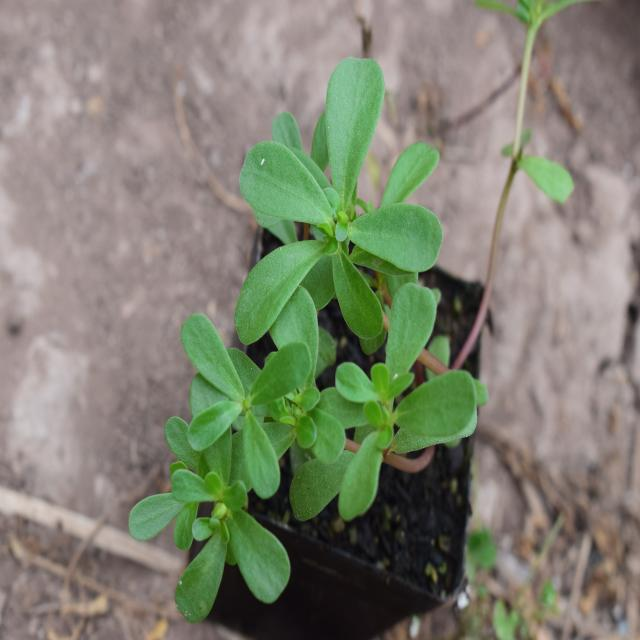purslane: (126, 44, 484, 606)
